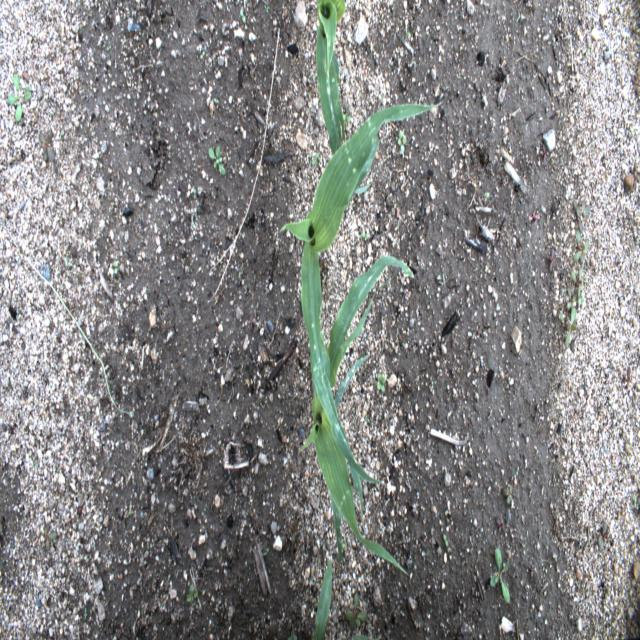crop: (278, 100, 445, 488), (304, 258, 415, 577), (315, 0, 350, 155), (310, 555, 334, 638)
weed: (6, 66, 35, 130), (487, 548, 512, 609), (343, 581, 369, 638), (499, 460, 524, 509), (568, 192, 592, 241), (34, 128, 62, 168), (592, 514, 616, 557), (38, 518, 62, 556), (206, 138, 228, 179), (520, 198, 546, 232), (572, 266, 588, 314), (437, 262, 455, 302), (571, 239, 593, 271), (372, 368, 396, 396), (183, 572, 199, 612), (493, 509, 513, 540), (536, 138, 555, 170), (543, 241, 562, 272), (112, 252, 130, 280), (399, 22, 420, 46), (396, 127, 410, 161), (482, 184, 499, 212), (566, 309, 578, 348), (428, 370, 442, 398), (306, 146, 321, 170), (438, 528, 451, 554), (195, 43, 211, 62), (625, 117, 637, 142), (237, 2, 250, 25), (567, 286, 577, 314), (236, 254, 245, 284), (581, 42, 594, 61), (260, 3, 274, 20), (209, 91, 222, 109), (632, 484, 638, 522)
